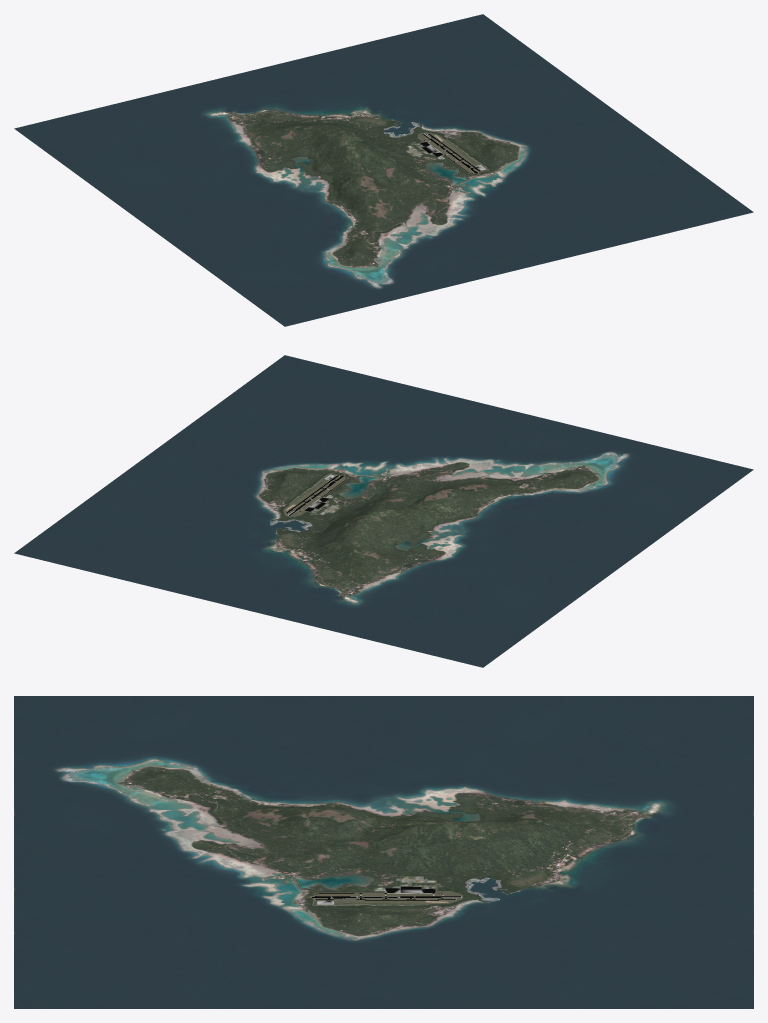
The model's file is SOU_TERRAIN_E.FBX.
3 renders of one model, top to bottom at view 1: azimuth 30°, elevation 25°; view 2: azimuth 150°, elevation 25°; view 3: azimuth 270°, elevation 25°, orthographic. The views are drawn at different scales.
Visible parts, largest first — view 1: SOU_TER_E03, SOU_TER_E01, SOU_TER_E04, SOU_TER_E02; view 2: SOU_TER_E01, SOU_TER_E03, SOU_TER_E04, SOU_TER_E02; view 3: SOU_TER_E02, SOU_TER_E04, SOU_TER_E03, SOU_TER_E01.
Part boxes in pixels (x1,y1,x2,y2): SOU_TER_E03: [150, 161, 518, 326]; SOU_TER_E01: [14, 71, 383, 227]; SOU_TER_E04: [384, 113, 753, 269]; SOU_TER_E02: [249, 14, 617, 165]; SOU_TER_E01: [249, 502, 617, 667]; SOU_TER_E03: [384, 412, 753, 568]; SOU_TER_E04: [150, 355, 518, 506]; SOU_TER_E02: [14, 454, 383, 610]; SOU_TER_E02: [382, 834, 753, 1008]; SOU_TER_E04: [14, 840, 383, 1008]; SOU_TER_E03: [14, 696, 383, 852]; SOU_TER_E01: [384, 696, 753, 852].
Bounding box in the file's own units: 100000 × 3550 × 100000.
